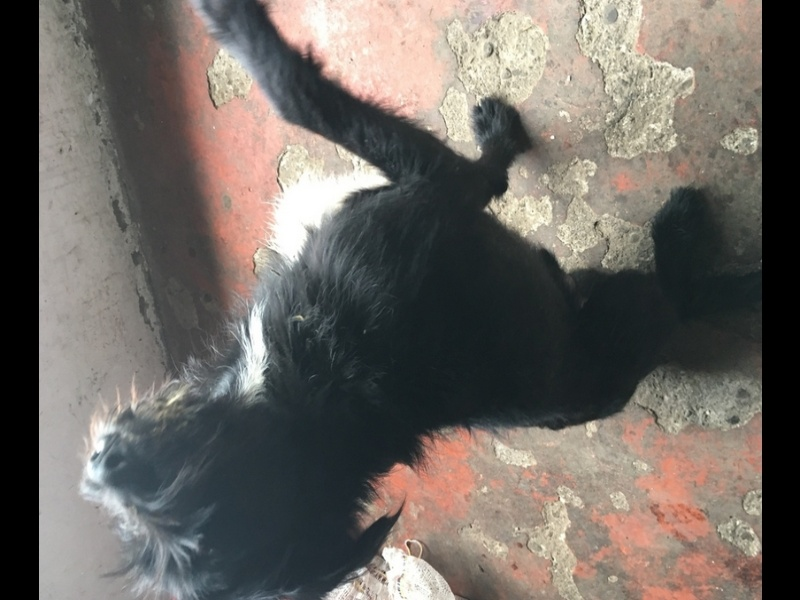dog: (86, 22, 656, 597)
